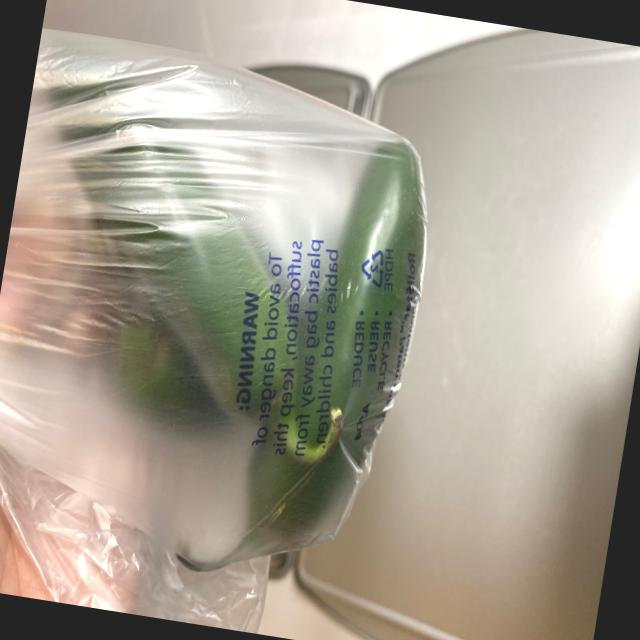chilli: (0, 42, 436, 593)
